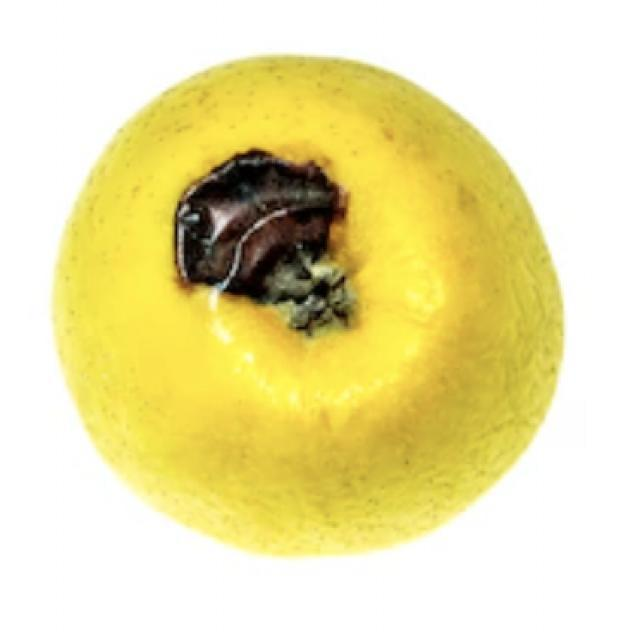Rotten: (70, 57, 552, 545)
